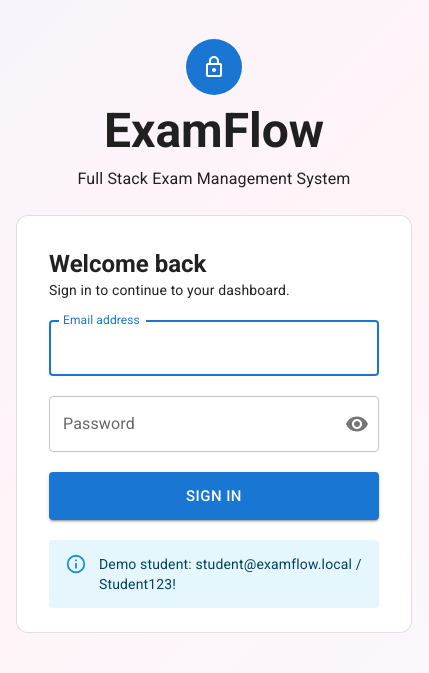
Scenario: LoginPage › shows validation errors for an empty form
Click the button "Sign in" at [214, 496], box [49, 472, 379, 520]
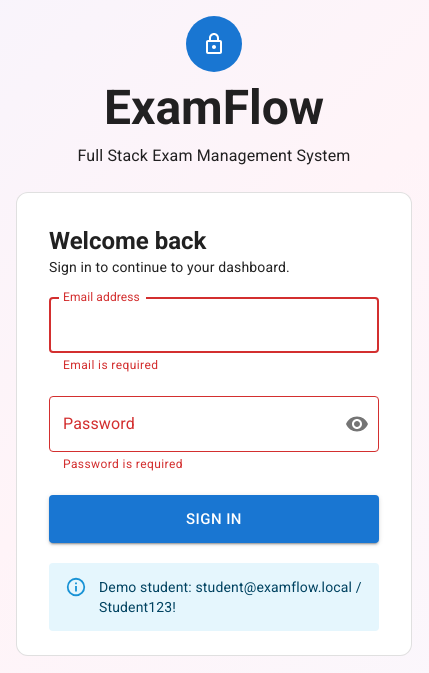
Result: the text "Email is required" is shown at [63, 358, 158, 372]
Result: the text "Password is required" is shown at [63, 457, 183, 471]
